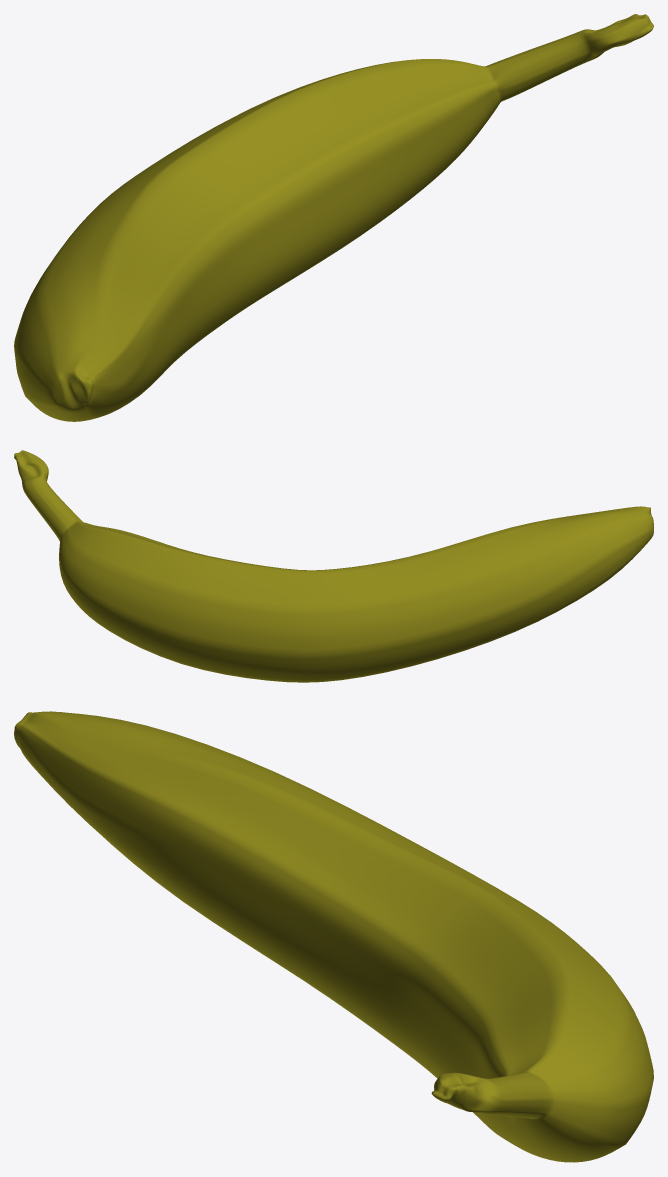
Rendered from banana.obj.
The picture shows the model from 3 angles, top to bottom: view 1: azimuth 30°, elevation 25°; view 2: azimuth 150°, elevation 25°; view 3: azimuth 270°, elevation 25°; orthographic projection. The views are drawn at different scales.
Parts seen in each view (by area): view 1: Banana; view 2: Banana; view 3: Banana.
Boxes of the visible parts, <box> form: Banana: <box>14,14,653,421</box>; Banana: <box>14,450,653,682</box>; Banana: <box>14,711,653,1162</box>.
Size of the model in its own units: 1.72 by 0.453 by 1.1.
